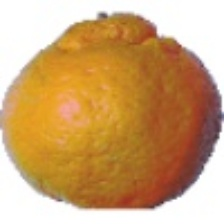tangerine: (49, 16, 184, 173)
